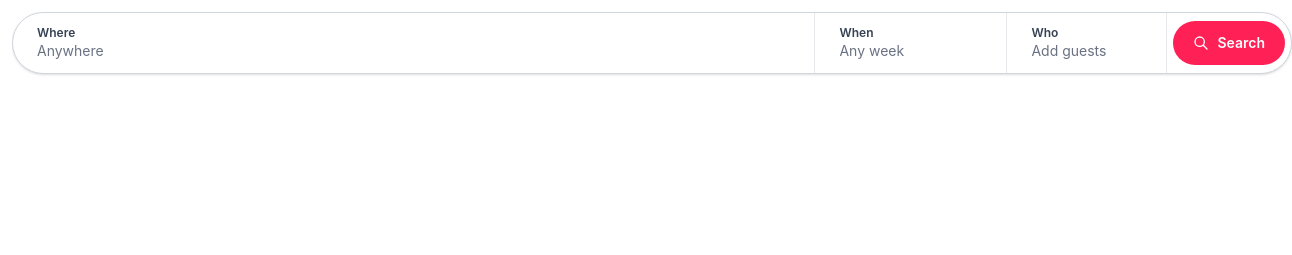
it: SearchBar panels › clicking "Anywhere" opens the Where panel with a text input
The image size is (1292, 255).
Click the text "Anywhere".
click(70, 50)  # box [37, 42, 104, 59]
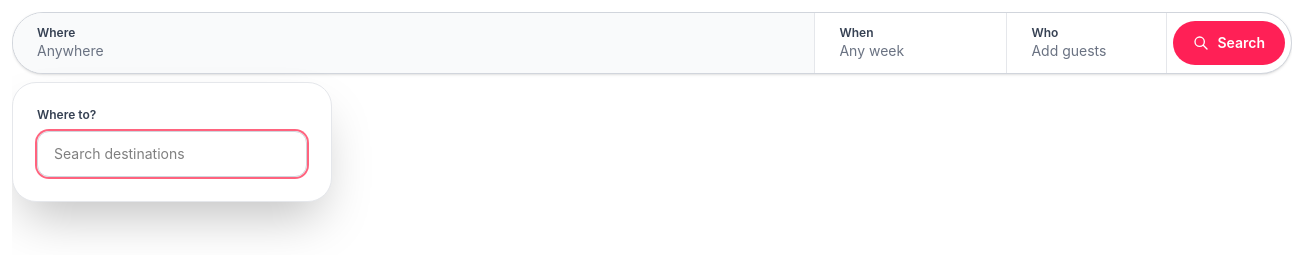
Result: the field with placeholder "Search destinations" is shown at [37, 131, 307, 177]
